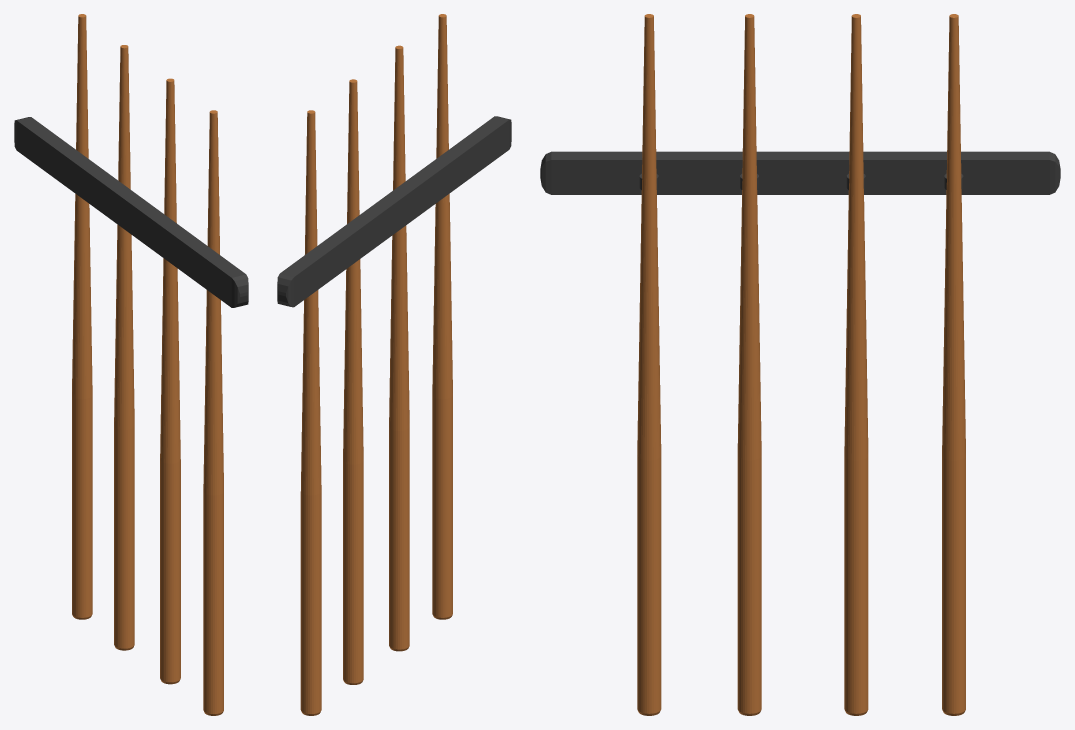
The model's file is Cue holders.fbx.
The picture shows the model from 3 angles, left to right: view 1: azimuth 30°, elevation 25°; view 2: azimuth 150°, elevation 25°; view 3: azimuth 270°, elevation 25°; orthographic projection. The views are drawn at different scales.
Parts seen in each view (by area): view 1: Cue holder, Cue.002, Cue.003, Cue.001, Cue.004; view 2: Cue holder, Cue.004, Cue.002, Cue.003, Cue.001; view 3: Cue holder, Cue.003, Cue.002, Cue.001, Cue.004.
Part boxes in pixels (box(x1,y1,x2,y2)): Cue holder: box(14, 117, 248, 307); Cue.002: box(160, 78, 180, 684); Cue.003: box(114, 45, 134, 650); Cue.001: box(203, 110, 223, 715); Cue.004: box(72, 14, 92, 619); Cue holder: box(277, 116, 511, 307); Cue.004: box(300, 110, 321, 715); Cue.002: box(389, 45, 409, 651); Cue.003: box(343, 79, 363, 684); Cue.001: box(432, 14, 452, 619); Cue holder: box(540, 151, 1060, 194); Cue.003: box(844, 14, 868, 715); Cue.002: box(737, 14, 761, 715); Cue.001: box(637, 14, 661, 715); Cue.004: box(942, 14, 965, 715).
Bounding box in the file's own units: 31.37 × 540 × 366.
